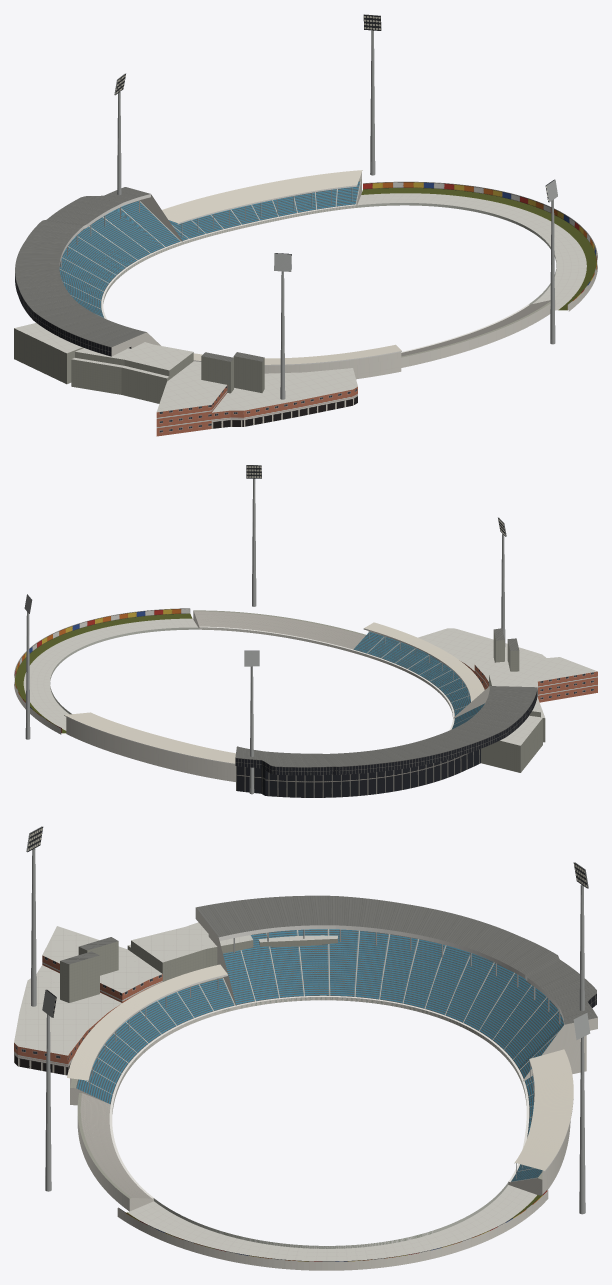
File: subiaco_B.glb
3 views of the same model, one above another, from view 1: azimuth 30°, elevation 25°; view 2: azimuth 150°, elevation 25°; view 3: azimuth 270°, elevation 25° (orthographic). The views are drawn at different scales.
Parts seen in each view (by area): view 1: subiacoB; view 2: subiacoB; view 3: subiacoB.
Boxes of the visible parts, x1=… form: subiacoB: x1=14, y1=14, x2=597, y2=436; subiacoB: x1=14, y1=465, x2=597, y2=797; subiacoB: x1=14, y1=826, x2=597, y2=1270.
Size of the model in its own units: 250 by 68.95 by 186.
17 materials, 17 textured.
